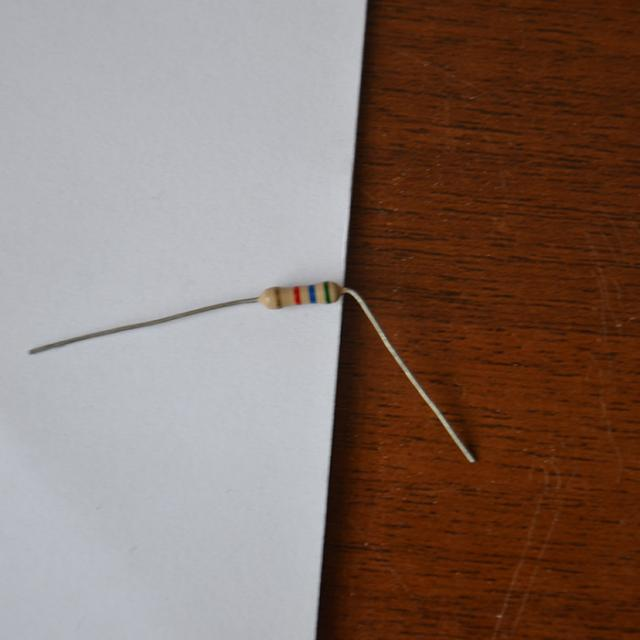blue: (309, 285, 317, 302)
gold: (275, 286, 282, 306)
green: (324, 282, 331, 303)
red: (293, 286, 302, 305)
resistor: (257, 279, 345, 311)
